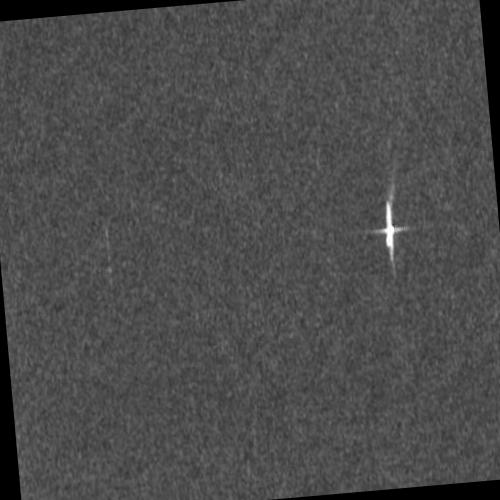ship: (385, 200, 394, 250)
